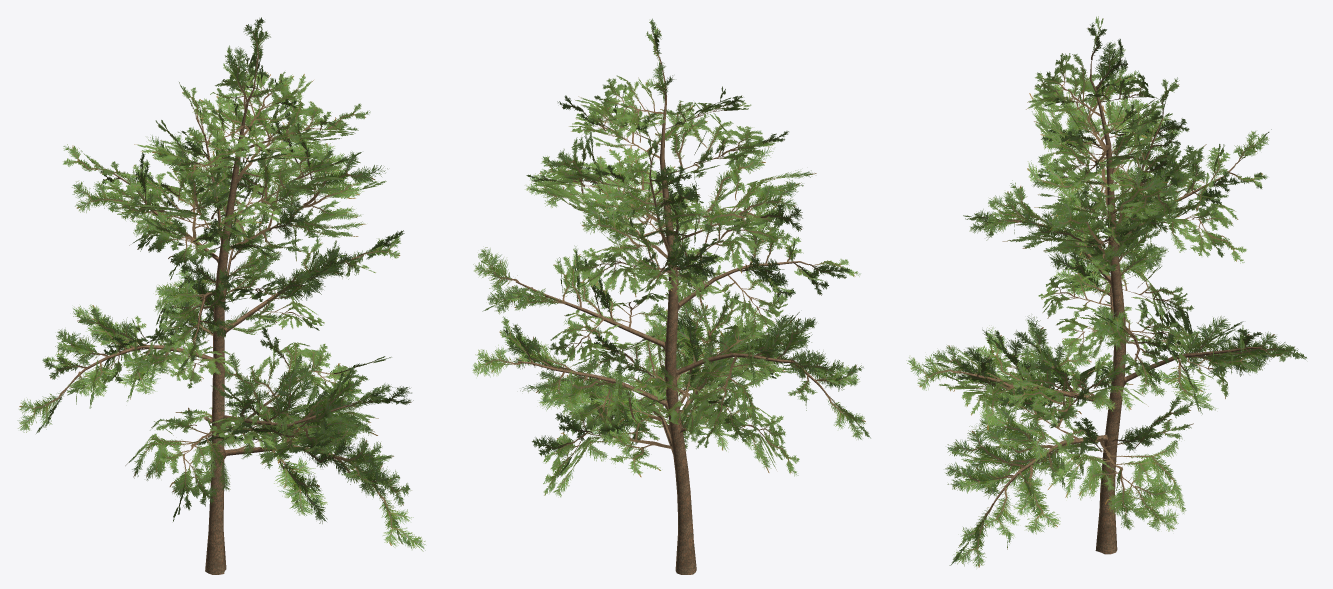
3 renders of one model, left to right at view 1: azimuth 30°, elevation 25°; view 2: azimuth 150°, elevation 25°; view 3: azimuth 270°, elevation 25°, orthographic. The views are drawn at different scales.
Visible parts, largest first — view 1: Pine_small_3_LOD1_Bark_Mat_0; view 2: Pine_small_3_LOD1_Bark_Mat_0; view 3: Pine_small_3_LOD1_Bark_Mat_0.
Part boxes in pixels (bbox=[...]): Pine_small_3_LOD1_Bark_Mat_0: bbox=[17, 17, 425, 574]; Pine_small_3_LOD1_Bark_Mat_0: bbox=[472, 18, 870, 574]; Pine_small_3_LOD1_Bark_Mat_0: bbox=[906, 16, 1306, 567].
Bounding box in the file's own units: 3.61 × 4.65 × 3.14.
